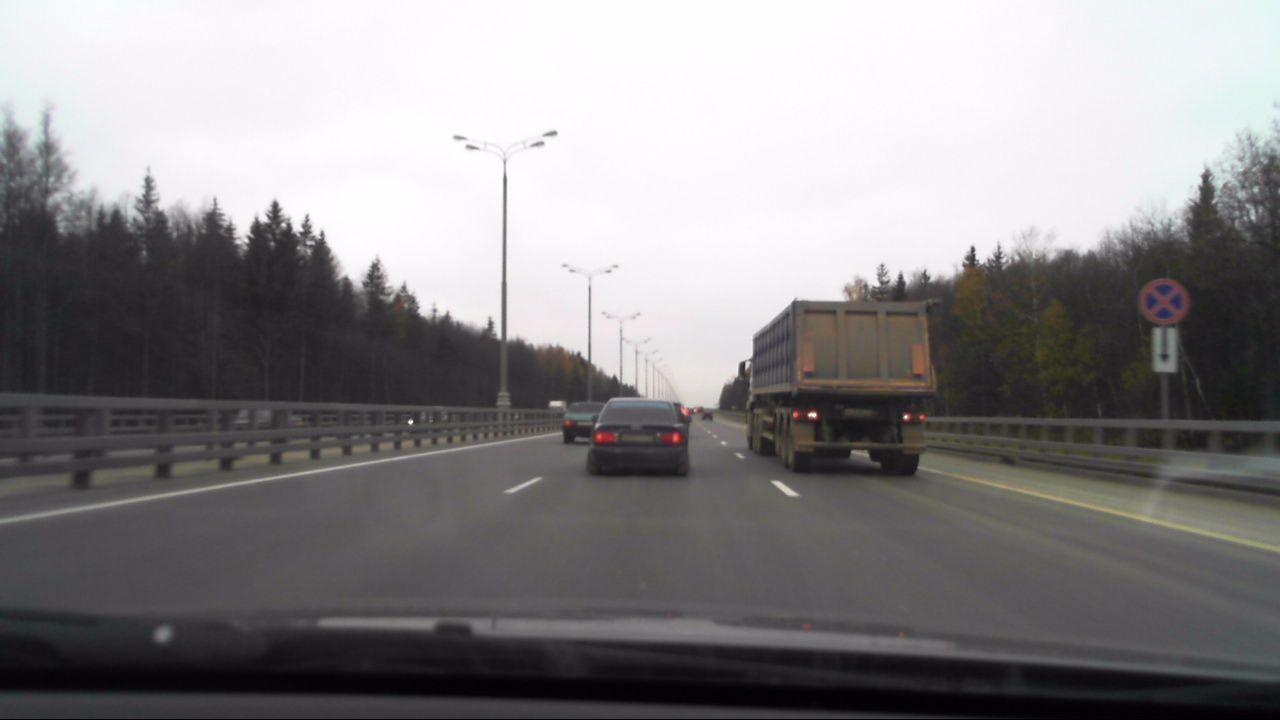No Parking: (1137, 277, 1189, 326)
